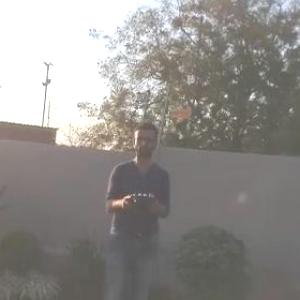follow: (100, 107, 176, 299)
